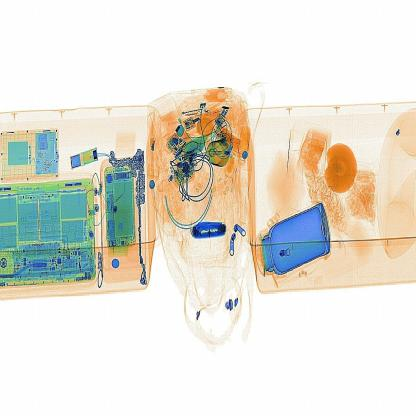scissors: (181, 214, 233, 244)
